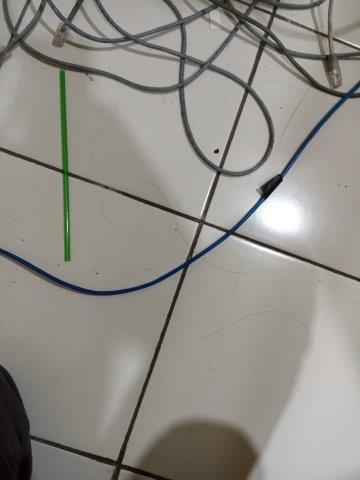sedotan: (59, 70, 70, 261)
